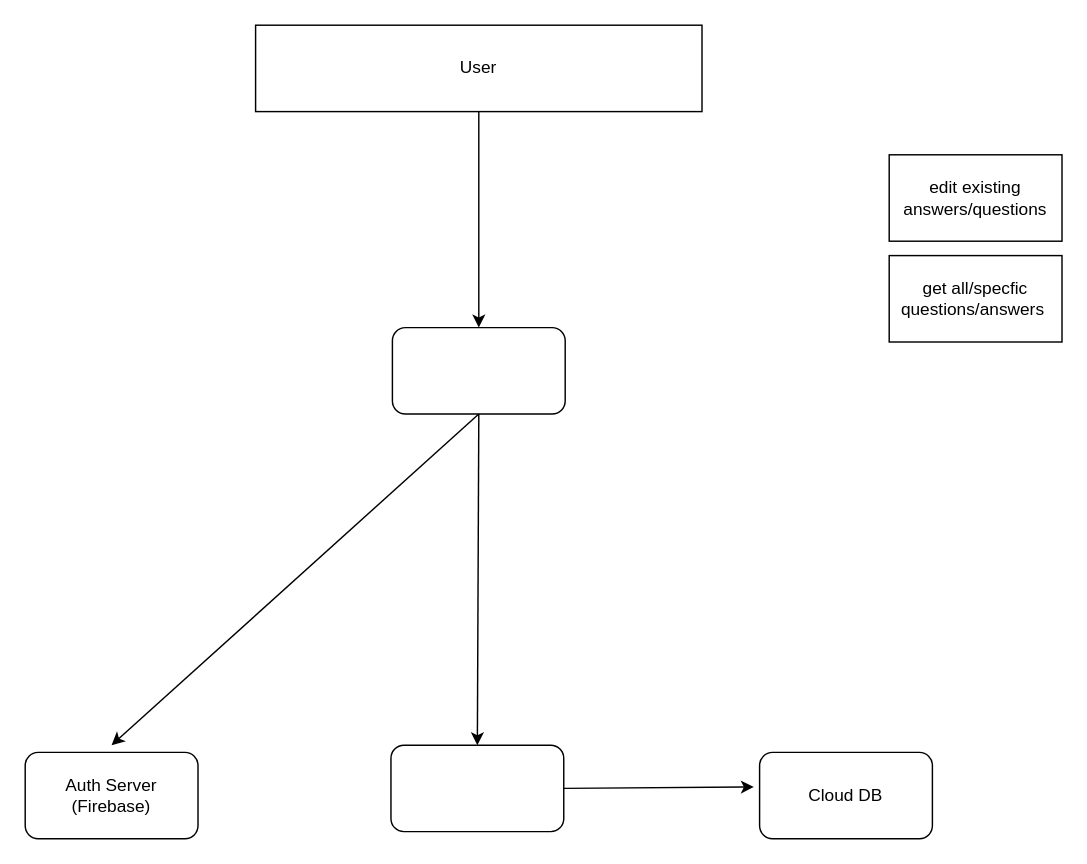
The diagram is 1087 pixels wide and 864 high, and some of its shapes have lost their labels. Each missing label, with the centre of its shape:
Backend: the point at 477,788
Frontend (Angular): the point at 478,370
